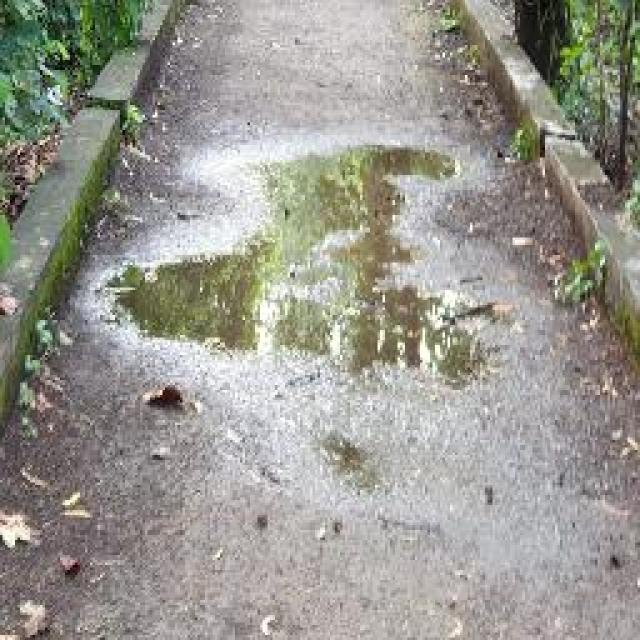puddle: (117, 145, 485, 393)
